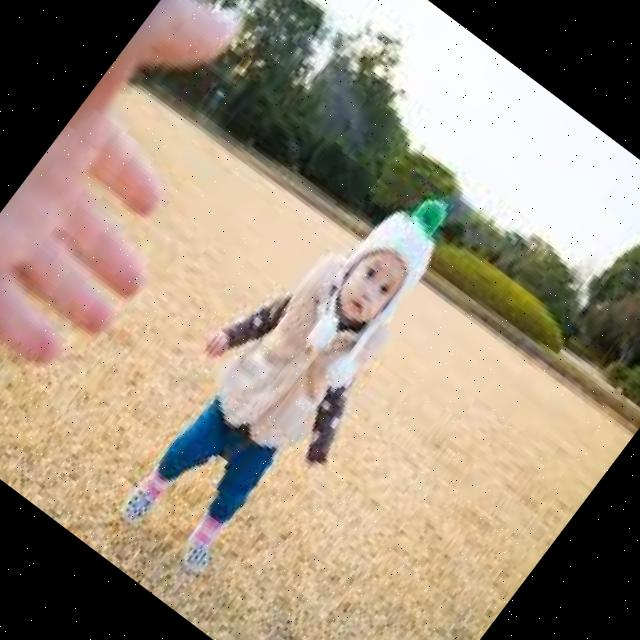Person: (94, 139, 494, 593)
